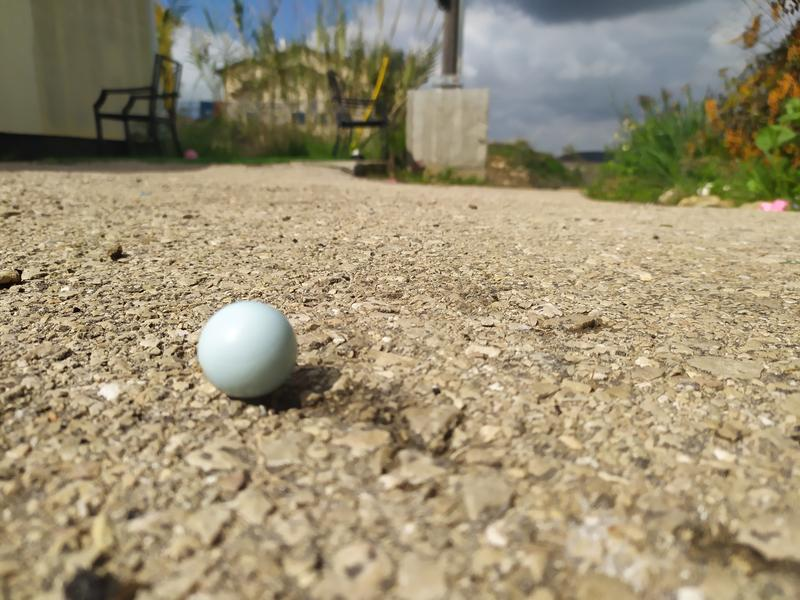Warning: (194, 299, 303, 401)
